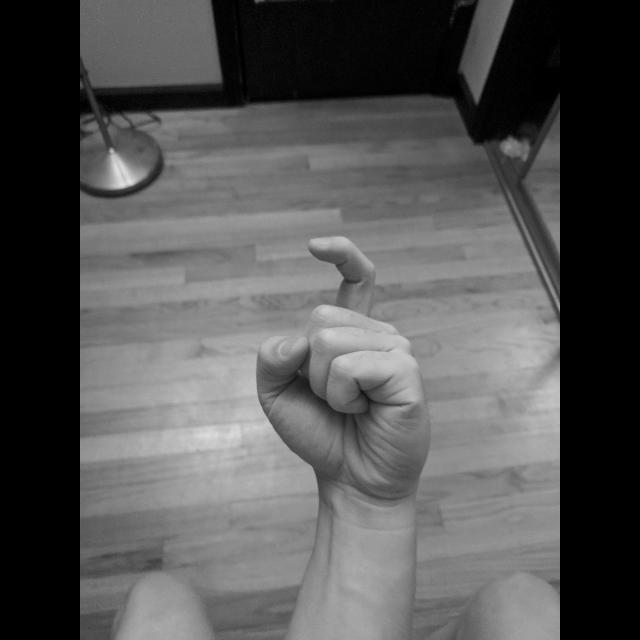X: (252, 232, 438, 504)
